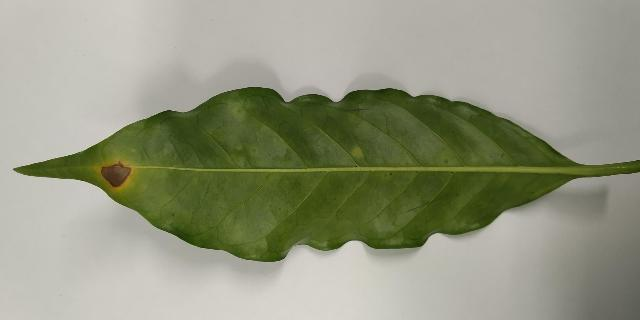phoma: (95, 160, 136, 191)
